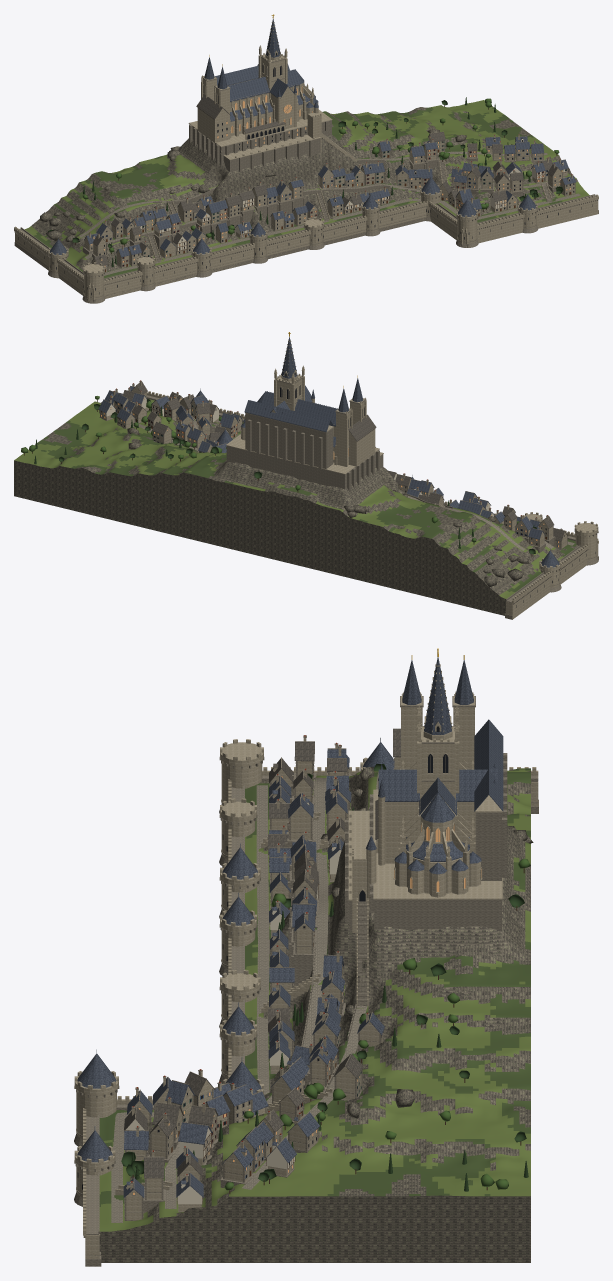
The model's file is abbey.glb.
3 views of the same model, one above another, from view 1: azimuth 30°, elevation 25°; view 2: azimuth 150°, elevation 25°; view 3: azimuth 270°, elevation 25° (orthographic). The views are drawn at different scales.
Parts seen in each view (by area): view 1: ab_mount; view 2: ab_mount; view 3: ab_mount.
Boxes of the visible parts, x1,y1,x2,y2 form: ab_mount: [14, 14, 598, 303]; ab_mount: [14, 332, 598, 619]; ab_mount: [74, 648, 538, 1266].
Size of the model in its own units: 378 by 147 by 160.
Materials: 8 (7 with a texture image).
